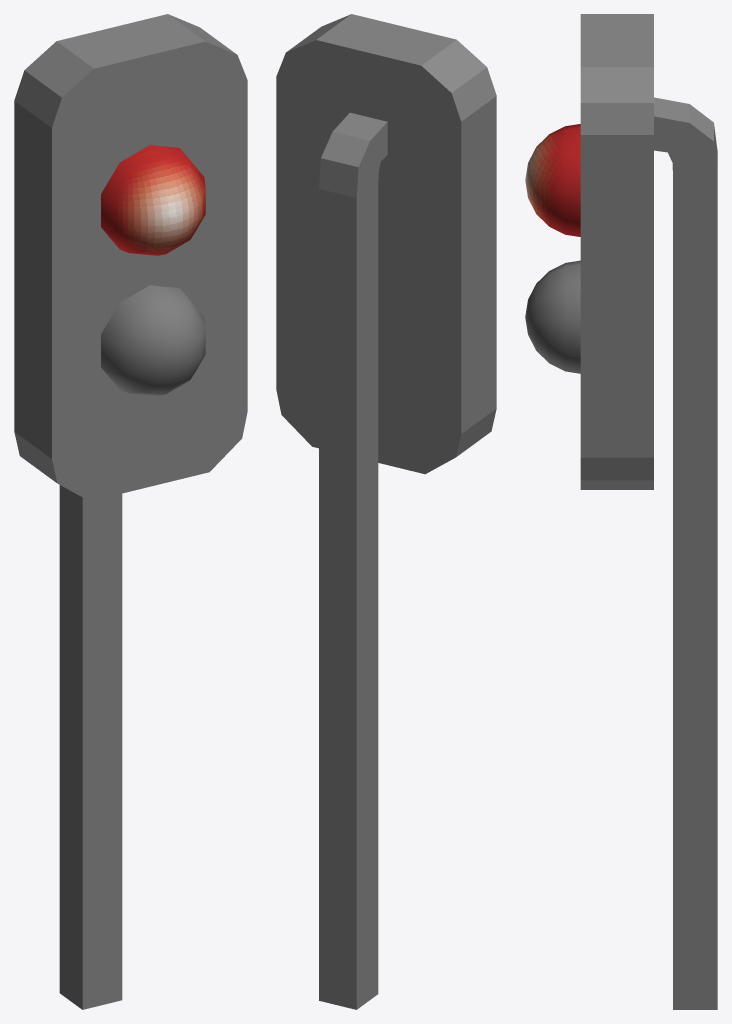
File: Console.fbx
3 views of the same model, side by side, from view 1: azimuth 30°, elevation 25°; view 2: azimuth 150°, elevation 25°; view 3: azimuth 270°, elevation 25° (orthographic). The views are drawn at different scales.
Visible parts, largest first — view 1: Console; view 2: Console; view 3: Console.
Part boxes in pixels (<box>): Console: <box>14,14,247,1009</box>; Console: <box>276,14,496,1009</box>; Console: <box>525,14,717,1009</box>.
Size of the model in its own units: 19.56 by 93.98 by 17.09.
